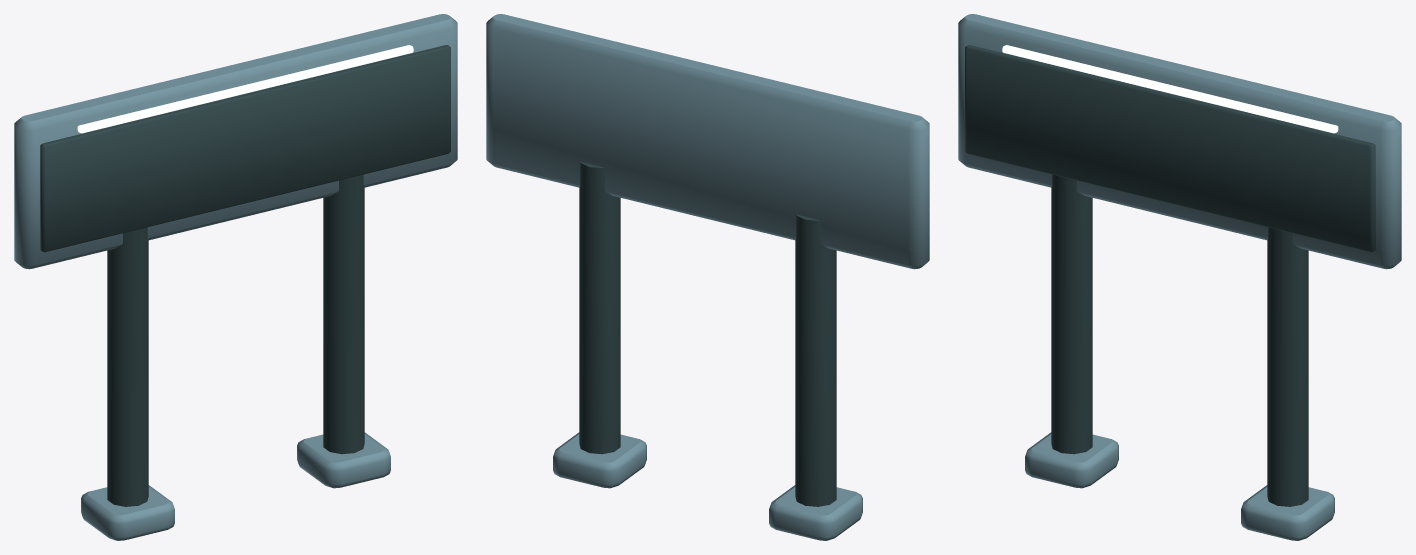
The model's file is billboard_1.glb.
3 renders of one model, left to right at view 1: azimuth 30°, elevation 25°; view 2: azimuth 150°, elevation 25°; view 3: azimuth 330°, elevation 25°, orthographic.
Visible parts, largest first — view 1: Billboard; view 2: Billboard; view 3: Billboard.
Part boxes in pixels (x1=…): Billboard: x1=14, y1=14, x2=457, y2=540; Billboard: x1=486, y1=14, x2=929, y2=540; Billboard: x1=958, y1=14, x2=1401, y2=540.
Bounding box in the file's own units: 4.13 × 3.86 × 0.6364.
